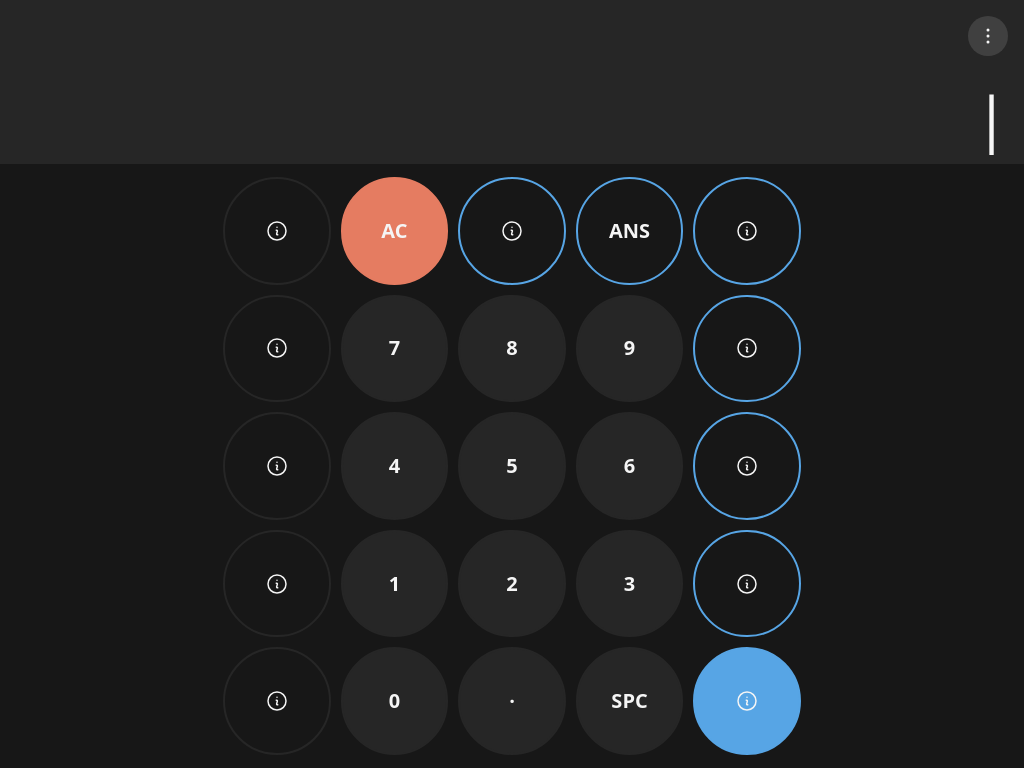
Test case: RPNCalc Component › It applies the correct stored last answer when button is clicked
Step 1. Click the button with aria-label "Last Answer" → coordinates (630, 231), box [576,177,684,285]
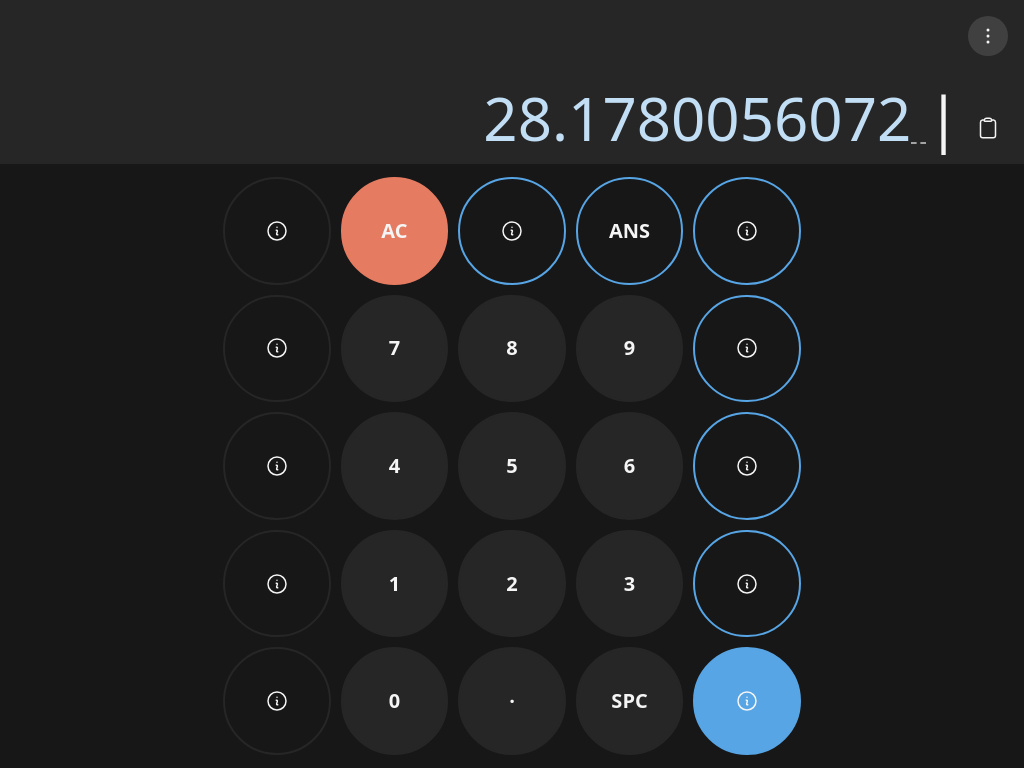
Check: the field labelled "28.1780056072 |" is shown, box [483,88,960,148]
